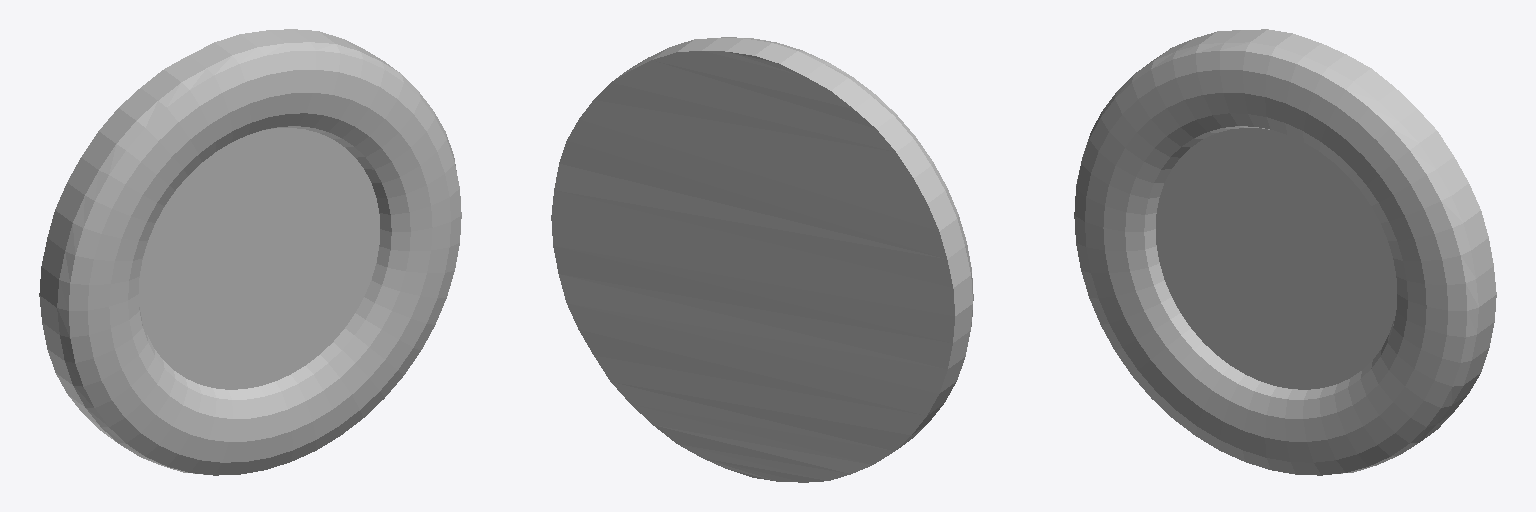
File: rondelleF.obj
3 renders of one model, left to right at view 1: azimuth 30°, elevation 25°; view 2: azimuth 150°, elevation 25°; view 3: azimuth 330°, elevation 25°, orthographic.
Visible parts, largest first — view 1: Torus; view 2: Torus; view 3: Torus.
Part boxes in pixels (bbox=[...]): Torus: bbox=[39, 29, 461, 475]; Torus: bbox=[551, 37, 973, 482]; Torus: bbox=[1074, 29, 1496, 475].
Bounding box in the file's own units: 13.42 × 13.41 × 1.72.